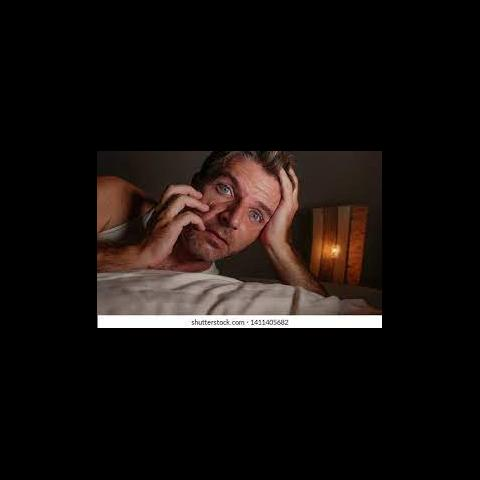opened: (210, 178, 268, 226)
